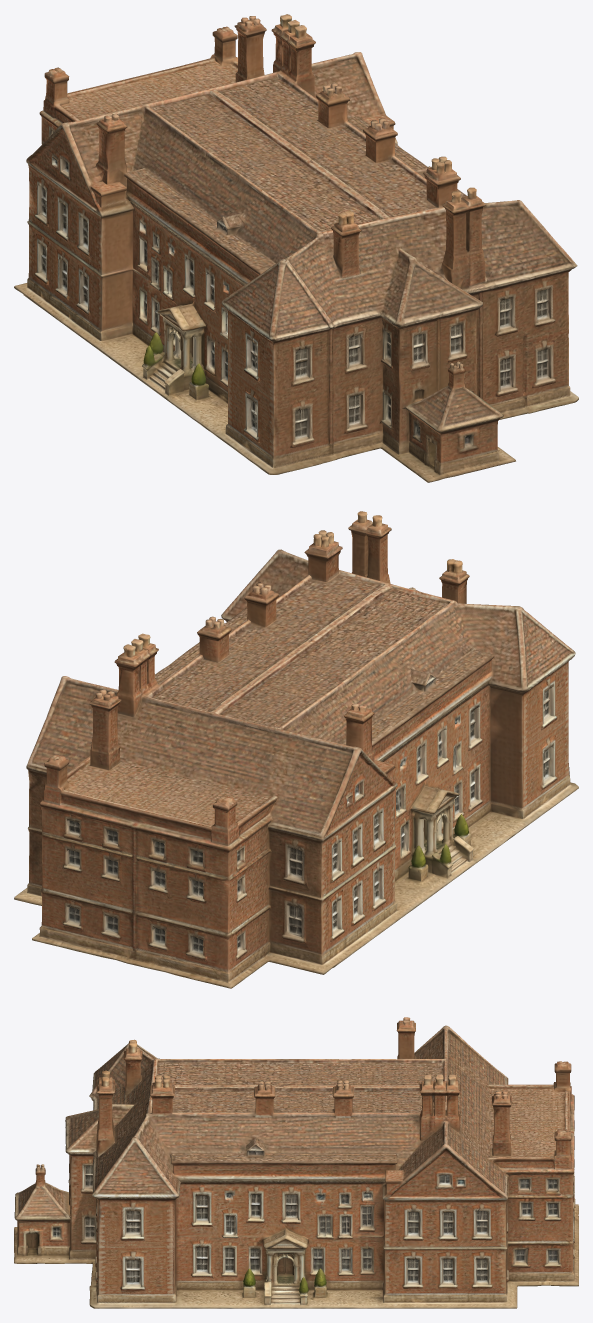
The model's file is hall-old.glb.
3 views of the same model, one above another, from view 1: azimuth 30°, elevation 25°; view 2: azimuth 150°, elevation 25°; view 3: azimuth 270°, elevation 25° (orthographic). The views are drawn at different scales.
Visible parts, largest first — view 1: tripo_node_69c825af-39e3-4d61-853d-23c54b7748a3; view 2: tripo_node_69c825af-39e3-4d61-853d-23c54b7748a3; view 3: tripo_node_69c825af-39e3-4d61-853d-23c54b7748a3.
Boxes of the visible parts, <box> form: tripo_node_69c825af-39e3-4d61-853d-23c54b7748a3: <box>14,14,578,482</box>; tripo_node_69c825af-39e3-4d61-853d-23c54b7748a3: <box>14,511,578,988</box>; tripo_node_69c825af-39e3-4d61-853d-23c54b7748a3: <box>14,1017,578,1308</box>.
Size of the model in its own units: 16.04 by 12 by 30.5.
1 material, 1 textured.
